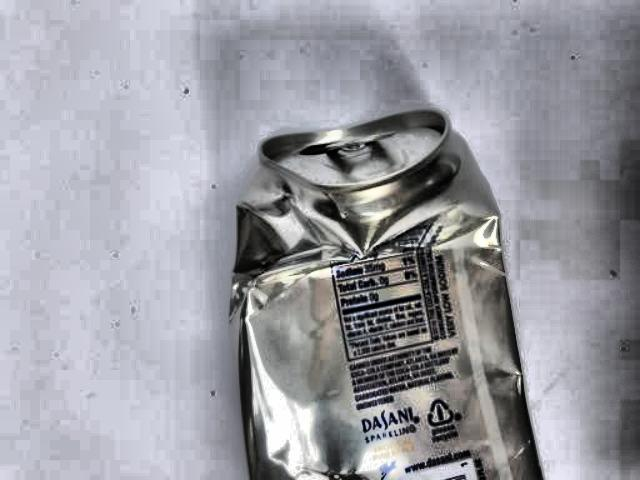Bottles: (224, 96, 559, 480)
